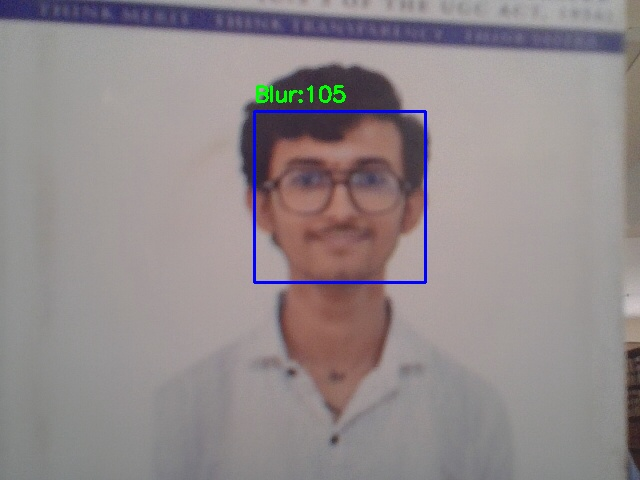fake: (254, 111, 425, 282)
